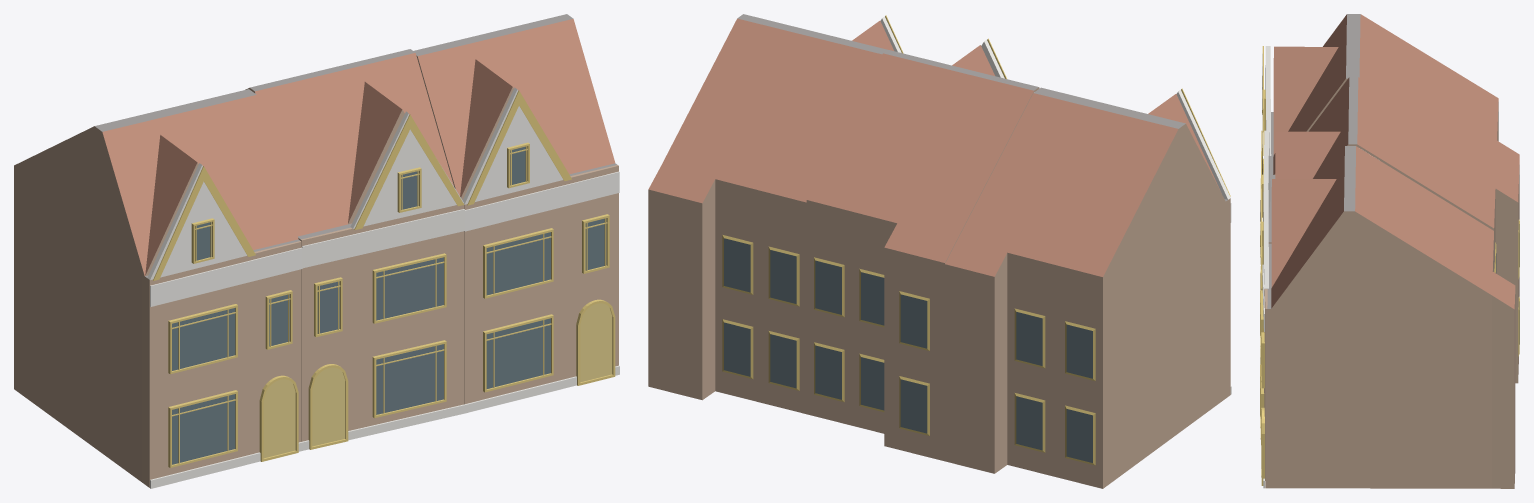
The model's file is chunk-face-zaanhof-99-104.glb.
The picture shows the model from 3 angles, left to right: view 1: azimuth 30°, elevation 25°; view 2: azimuth 150°, elevation 25°; view 3: azimuth 270°, elevation 25°; orthographic projection. The views are drawn at different scales.
Parts seen in each view (by area): view 1: face-zaanhof-99-104; view 2: face-zaanhof-99-104; view 3: face-zaanhof-99-104.
Part boxes in pixels (x1,y1,x2,y2): face-zaanhof-99-104: [14, 14, 619, 488]; face-zaanhof-99-104: [648, 14, 1231, 488]; face-zaanhof-99-104: [1260, 14, 1519, 488].
Size of the model in its own units: 17.59 by 11.55 by 9.75.
